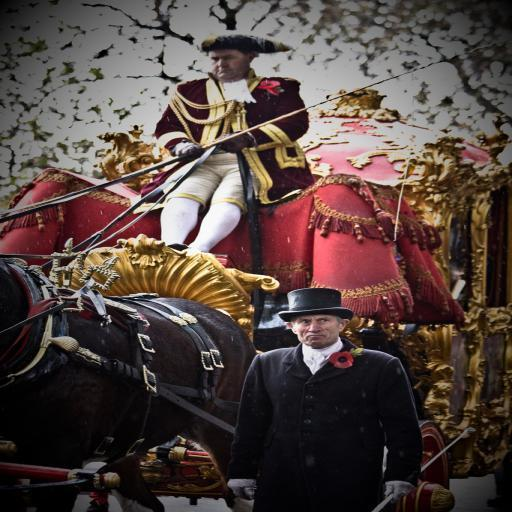horse: (0, 264, 254, 512)
